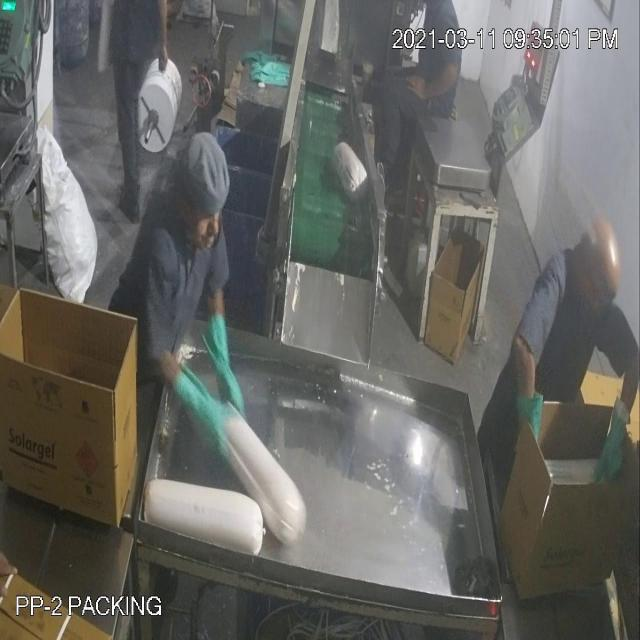No_Gloves: (20, 43, 612, 452)
